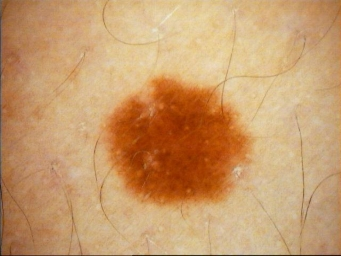nevus: (108, 76, 253, 207)
